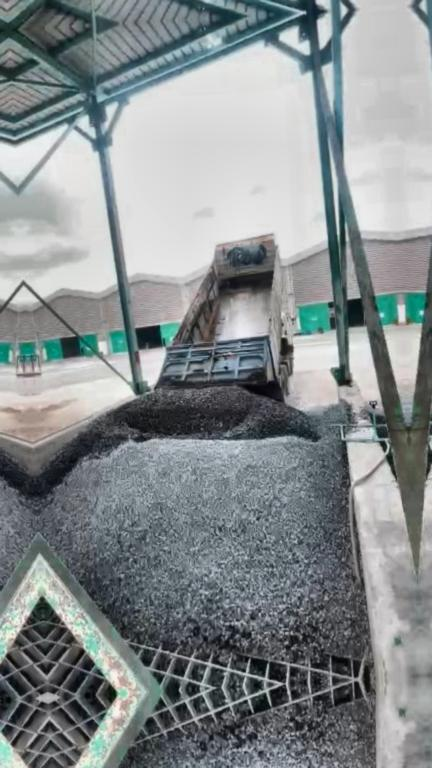gravel: (37, 398, 367, 662), (36, 386, 320, 497)
sand: (31, 402, 69, 441)
